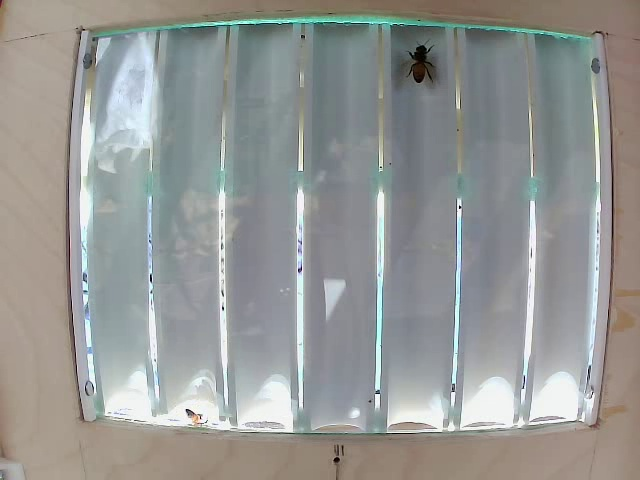bee: (398, 27, 444, 100)
